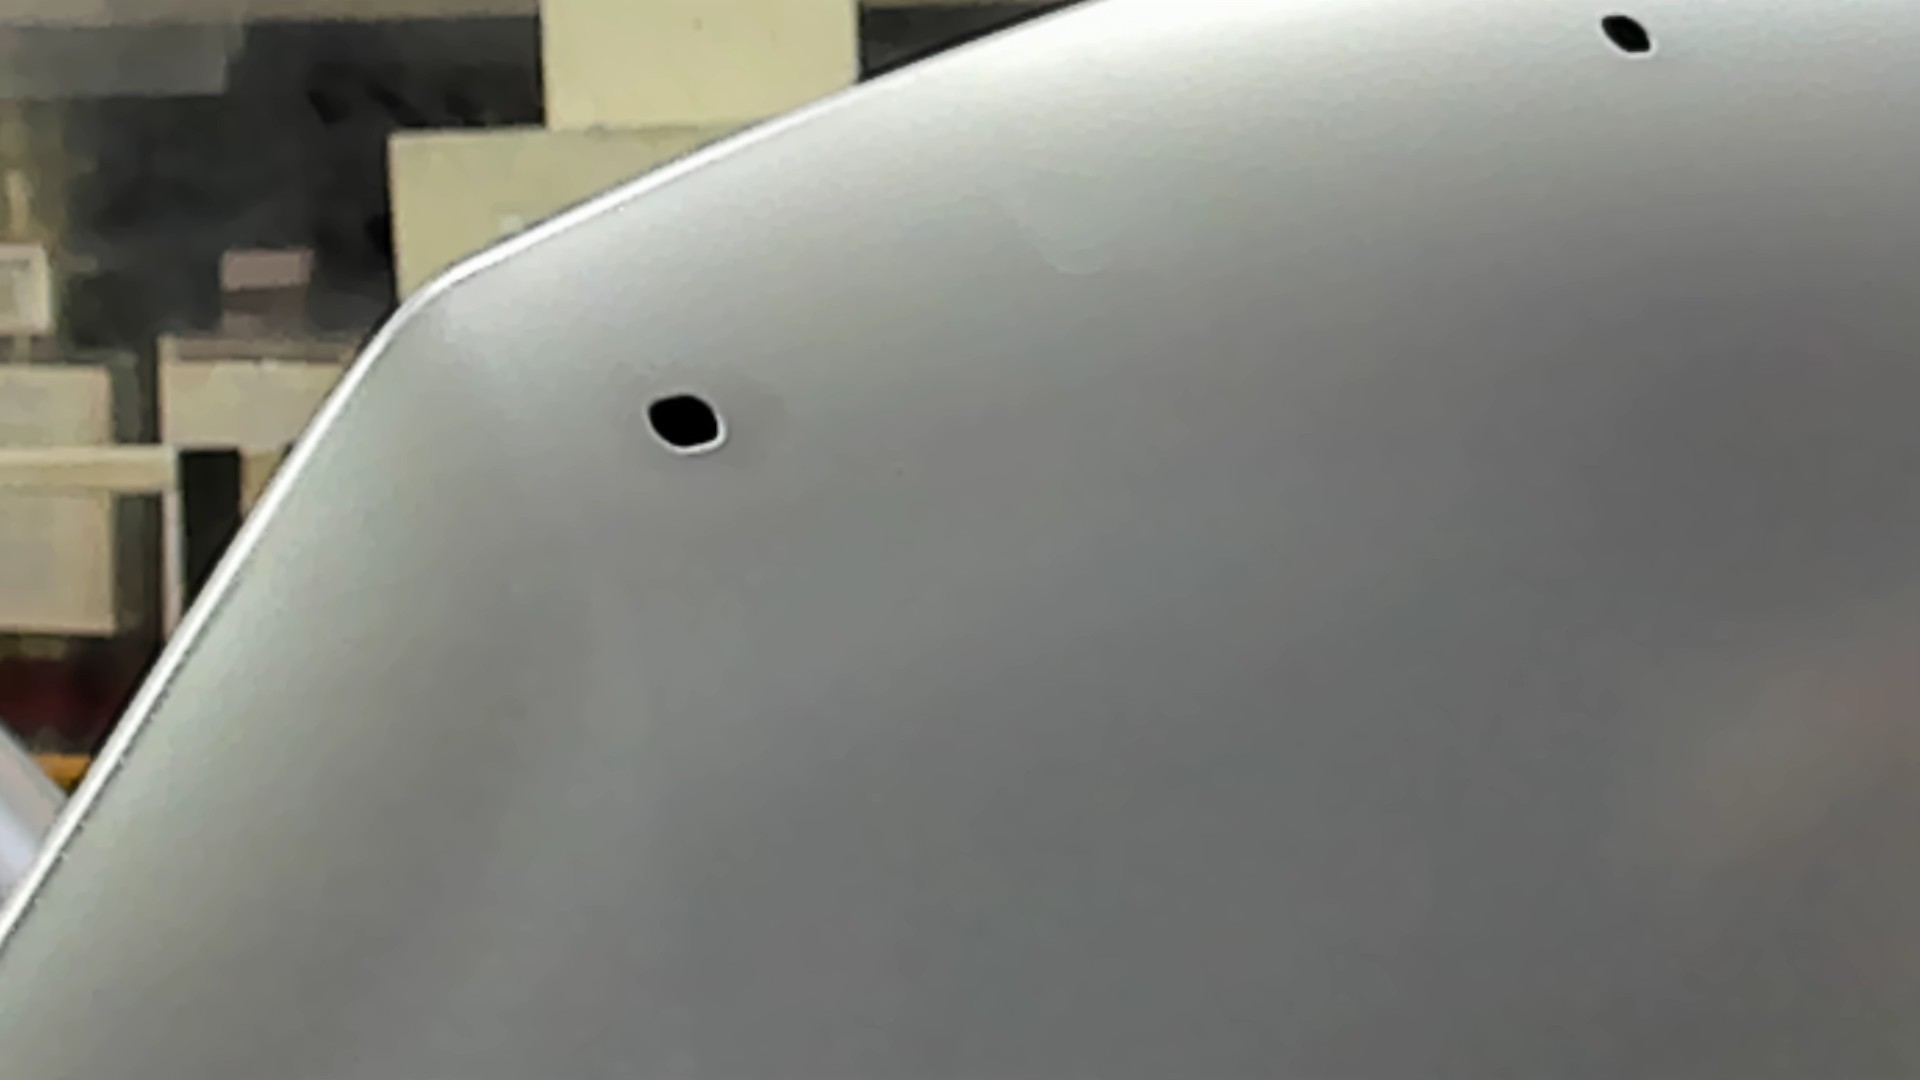amorfo: (637, 390, 728, 455), (1593, 11, 1660, 65)
